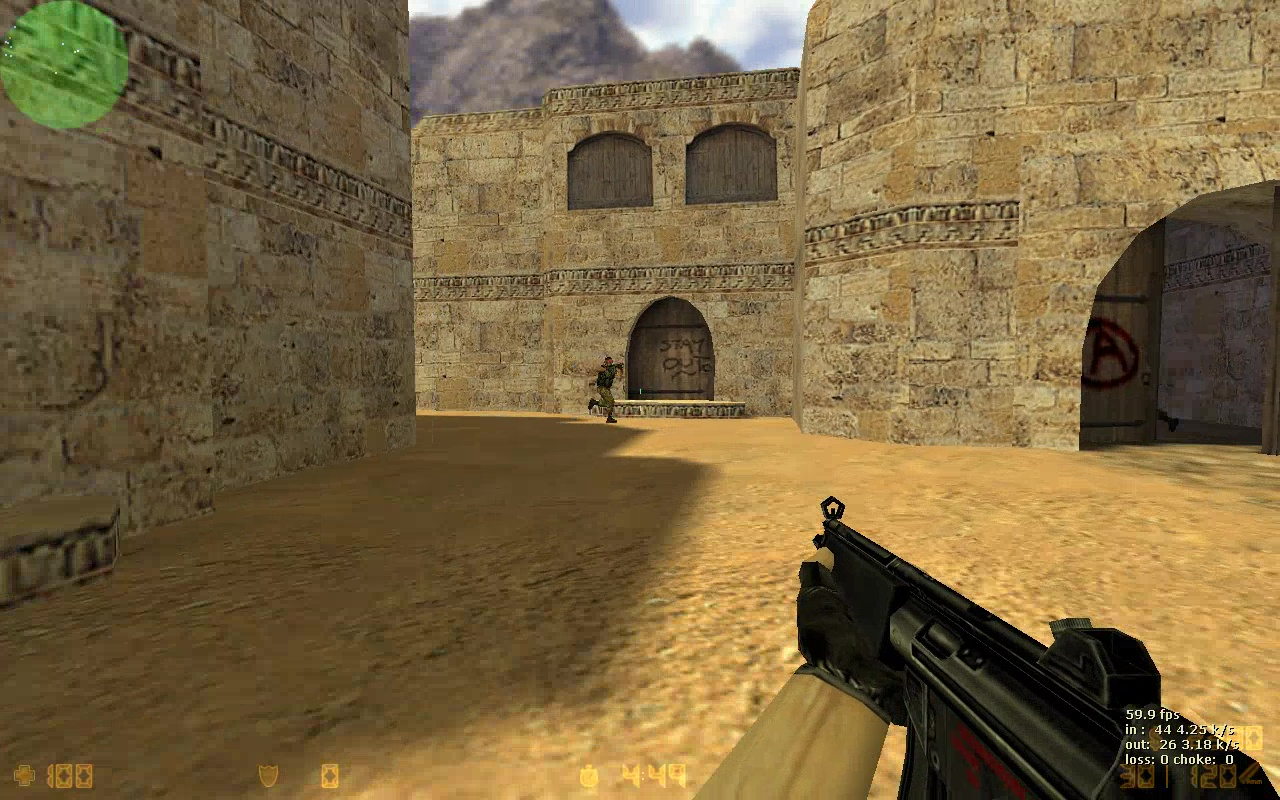terr1: (585, 354, 624, 427)
